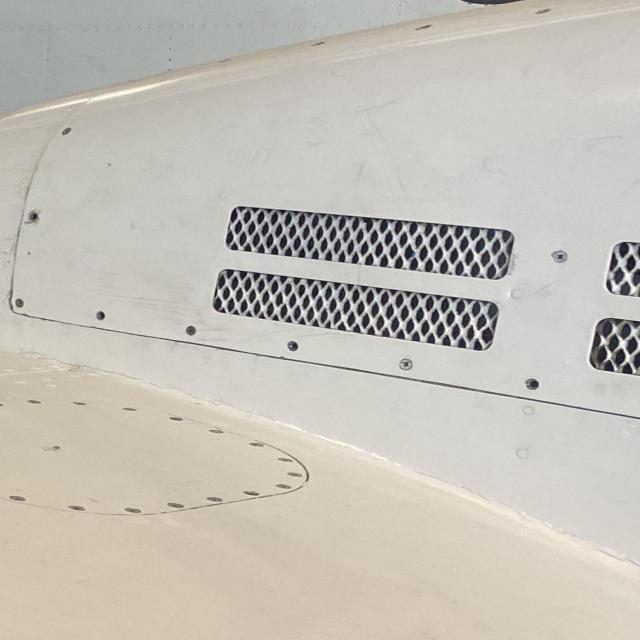Missing-head: (27, 210, 41, 224), (525, 378, 541, 390), (286, 341, 300, 352), (94, 310, 106, 321)
